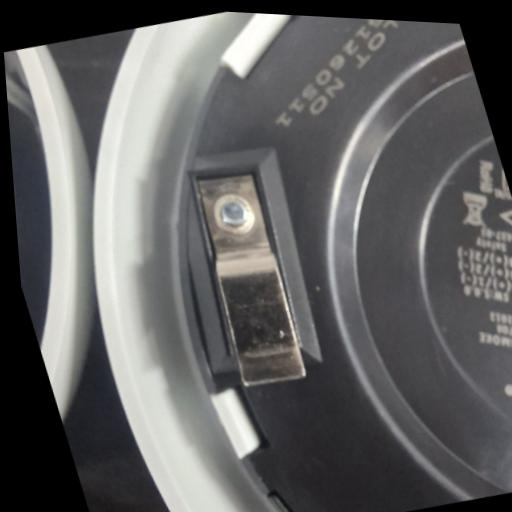yaysiz: (178, 159, 321, 397)
